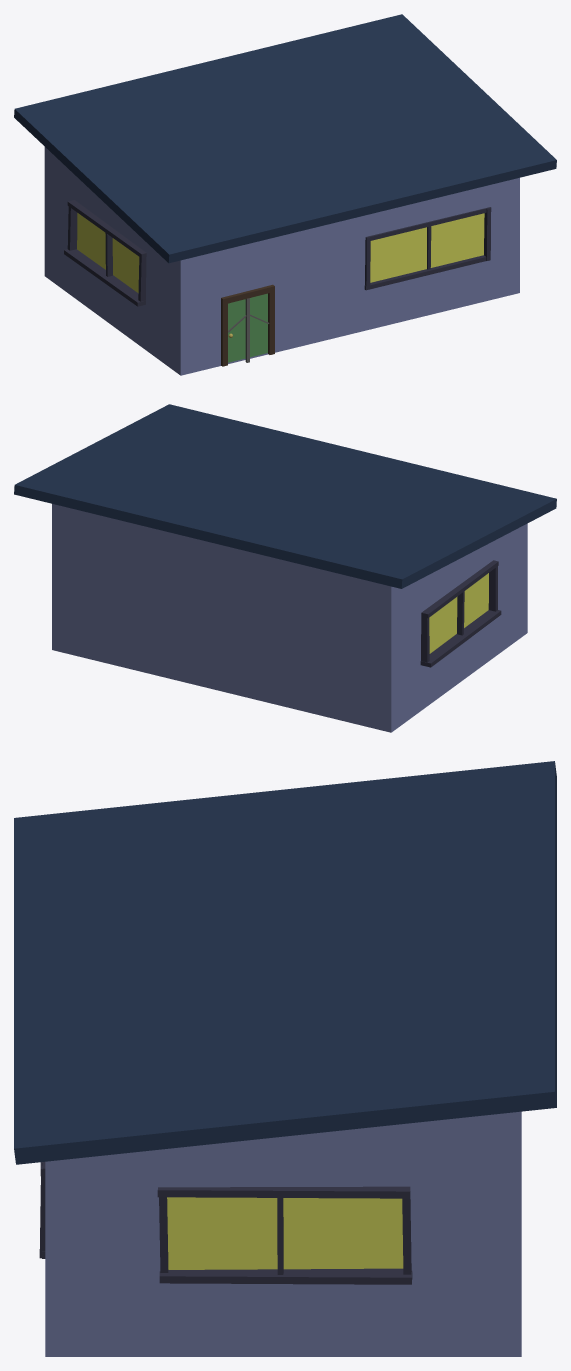
File: House10.fbx
The picture shows the model from 3 angles, top to bottom: view 1: azimuth 30°, elevation 25°; view 2: azimuth 150°, elevation 25°; view 3: azimuth 270°, elevation 25°; orthographic projection. The views are drawn at different scales.
Visible parts, largest first — view 1: Cube.052, Cube, Cube.003, Cube.001, Cube.074, Cube.054, Cube.064, Cube.053, Cube.063, Cube.068; view 2: Cube, Cube.052, Cube.001, Cube.054, Cube.053; view 3: Cube.052, Cube, Cube.002, Cube.059, Cube.058.
Part boxes in pixels (left/top/right/bottom): Cube.052: left=14, top=14, right=556, bottom=263; Cube: left=44, top=147, right=519, bottom=375; Cube.003: left=370, top=213, right=484, bottom=282; Cube.001: left=77, top=213, right=139, bottom=293; Cube.074: left=228, top=293, right=267, bottom=362; Cube.054: left=64, top=249, right=145, bottom=306; Cube.064: left=364, top=255, right=486, bottom=289; Cube.053: left=67, top=200, right=146, bottom=258; Cube.063: left=365, top=207, right=491, bottom=240; Cube.068: left=221, top=298, right=227, bottom=366; Cube: left=52, top=504, right=527, bottom=732; Cube.052: left=14, top=404, right=556, bottom=588; Cube.001: left=429, top=573, right=488, bottom=653; Cube.054: left=420, top=610, right=501, bottom=667; Cube.053: left=421, top=560, right=498, bottom=618; Cube.052: left=14, top=761, right=556, bottom=1164; Cube: left=45, top=1111, right=521, bottom=1356; Cube.002: left=167, top=1197, right=403, bottom=1269; Cube.059: left=159, top=1268, right=412, bottom=1284; Cube.058: left=157, top=1186, right=410, bottom=1198.
Bounding box in the file's own units: 1401 × 576 × 972.
